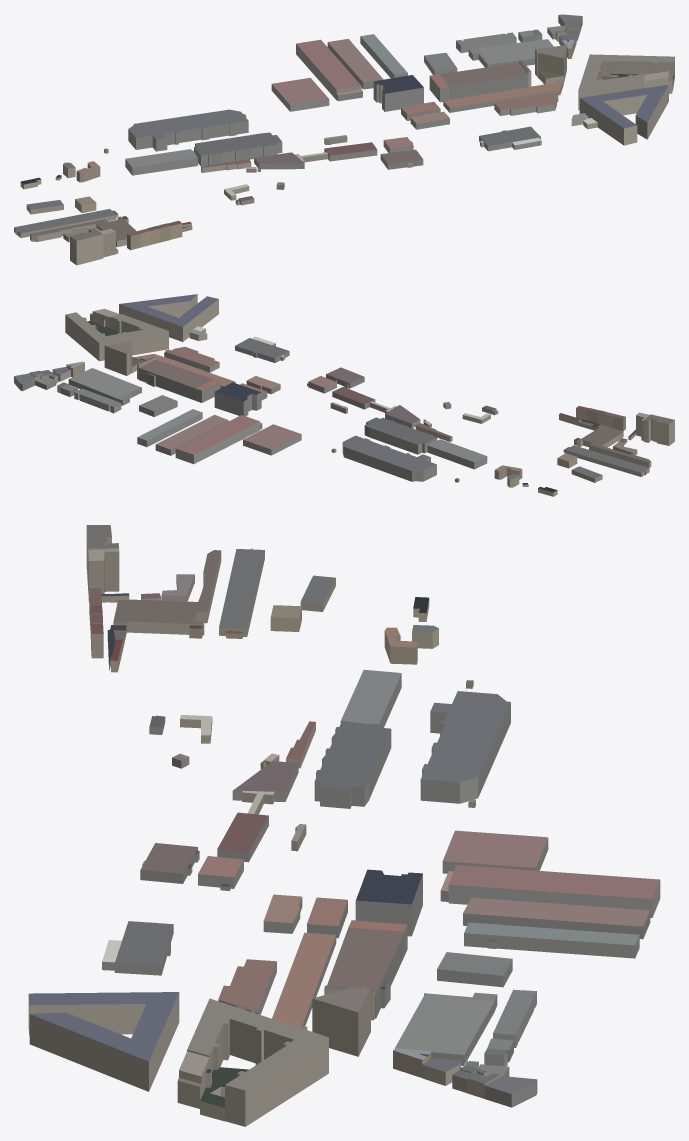
The picture shows the model from 3 angles, top to bottom: view 1: azimuth 30°, elevation 25°; view 2: azimuth 150°, elevation 25°; view 3: azimuth 270°, elevation 25°; orthographic projection. The views are drawn at different scales.
Parts seen in each view (by area): view 1: tuile; view 2: tuile; view 3: tuile.
Part boxes in pixels (x1,y1,x2,y2): tuile: (14, 14, 674, 265); tuile: (14, 294, 674, 496); tuile: (28, 525, 660, 1126).
Bounding box in the file's own units: 1042 × 42.34 × 489.
